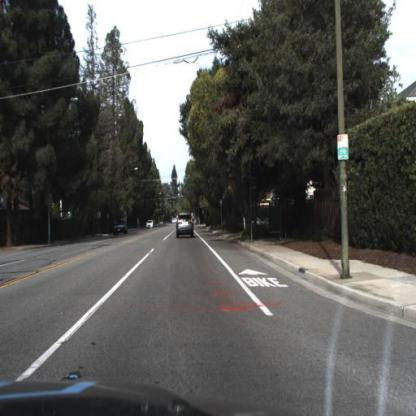car: (173, 208, 194, 241), (110, 213, 129, 241), (146, 218, 155, 230)
